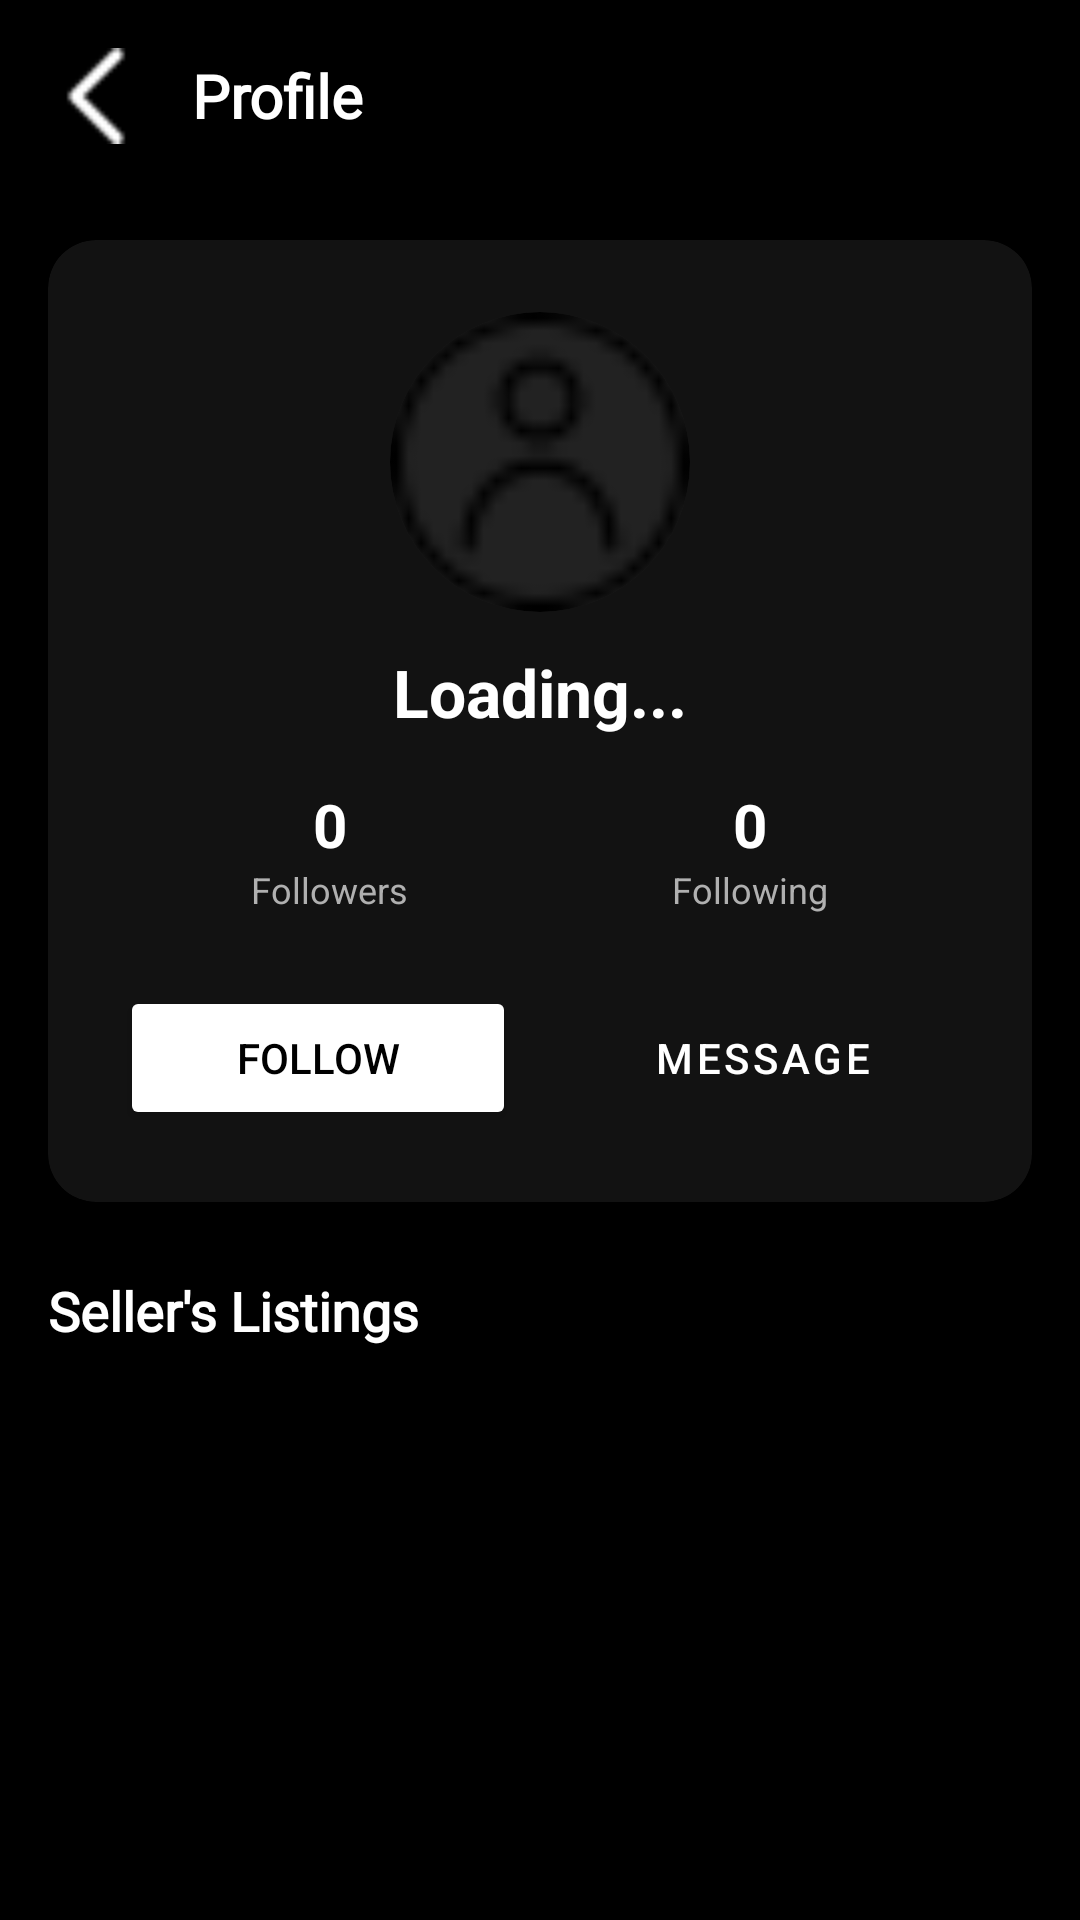

Icon bounding boxes for this 1080*1920 phone screenshot, format [x1=x1, y1=y1, x2=x2, y2=y2]:
back arrow: [x1=67, y1=48, x2=125, y2=144]
